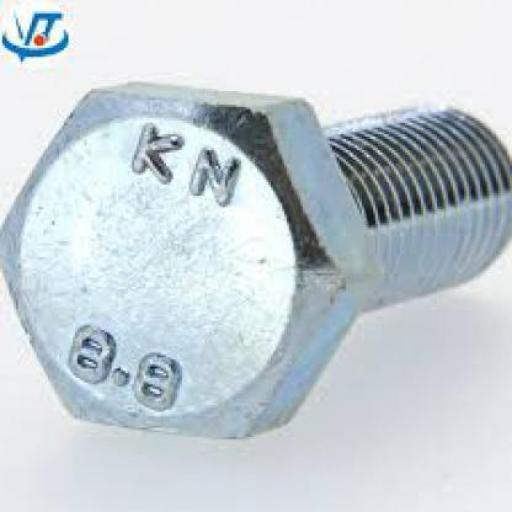metal: (0, 82, 510, 440)
